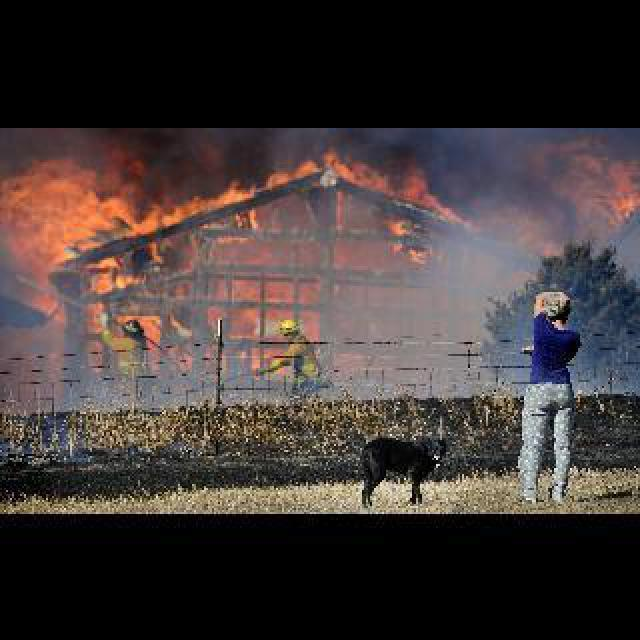Fire: (40, 134, 442, 320), (568, 154, 638, 220)
